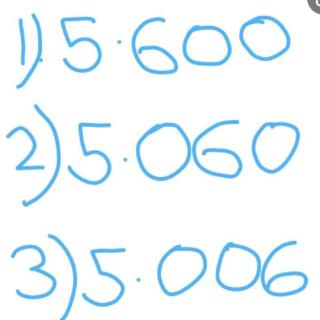.: (115, 37, 123, 47), (121, 155, 129, 165), (135, 274, 143, 283)
0: (238, 13, 291, 66), (181, 23, 236, 67)
5: (66, 121, 114, 191), (57, 13, 106, 74), (83, 242, 127, 309)
6: (191, 116, 245, 186), (131, 11, 180, 77)
